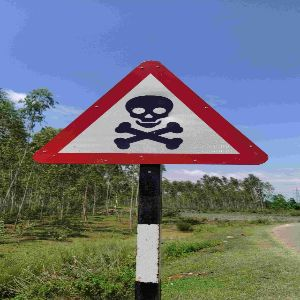Accident prone area: (27, 56, 275, 179)
